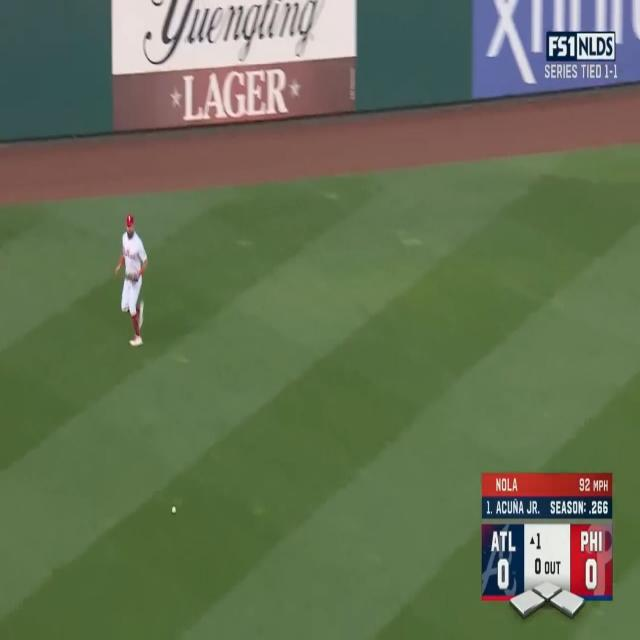baseball: (172, 506, 176, 514)
